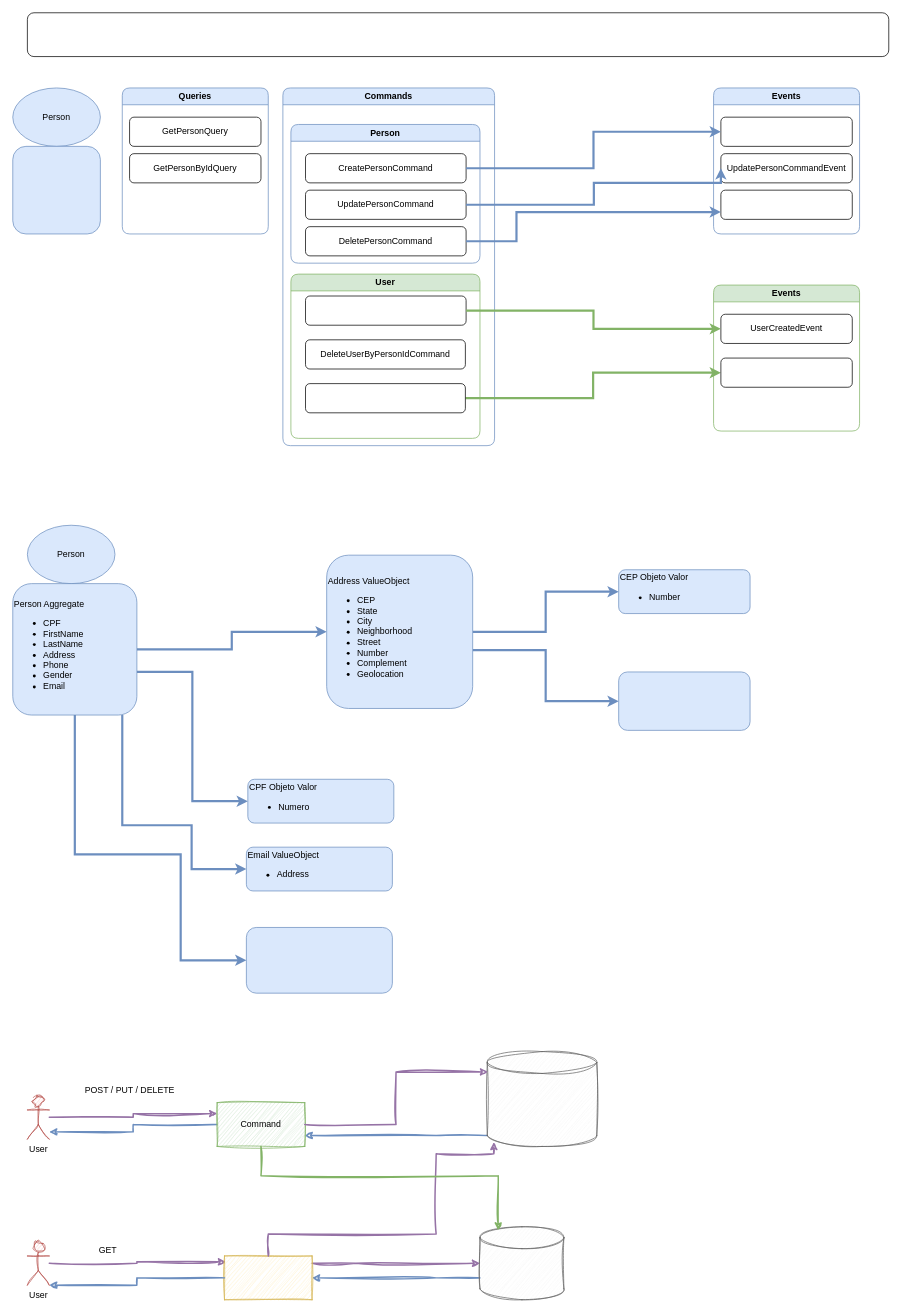
This 902x1313 diagram has some shape labels left out. Here are the shapes that lost their labels. From the top down, the centre of each, then its label:
At (x=458, y=34): "Definir Papeis e responsabilidades para os contextos delimitados".
At (x=786, y=131): "CreatePersonCommandEvent".
At (x=56, y=190): "Dados pessoais".
At (x=786, y=204): "DeletePersonCommandEvent".
At (x=385, y=310): "CreateUserCommand".
At (x=786, y=372): "UserDeletedEvent".
At (x=385, y=398): "DeleteUserCommand".
At (x=684, y=700): "Geolocation Objeto Valor Latitude Longitude".
At (x=319, y=960): "PhoneNumber ValueObject Phone".
At (x=542, y=1098): "SQL DataBase - SQL Server".
At (x=268, y=1277): "Query Handler".
At (x=521, y=1263): "Cache Redis".
